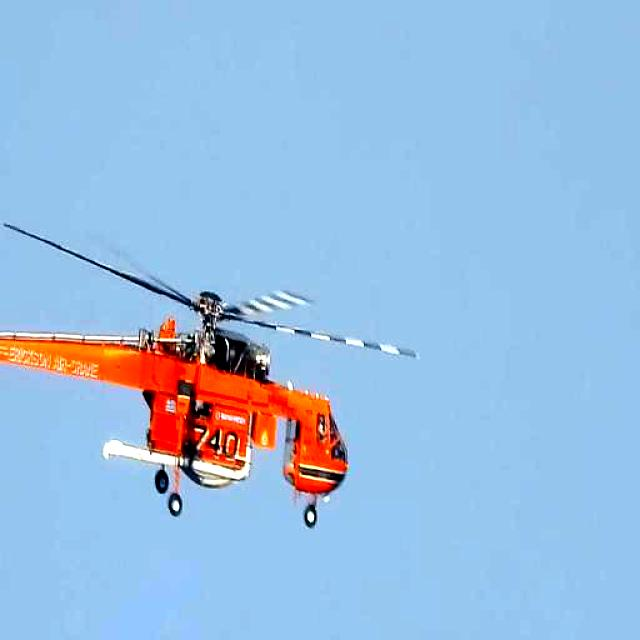drone: (0, 175, 416, 541)
